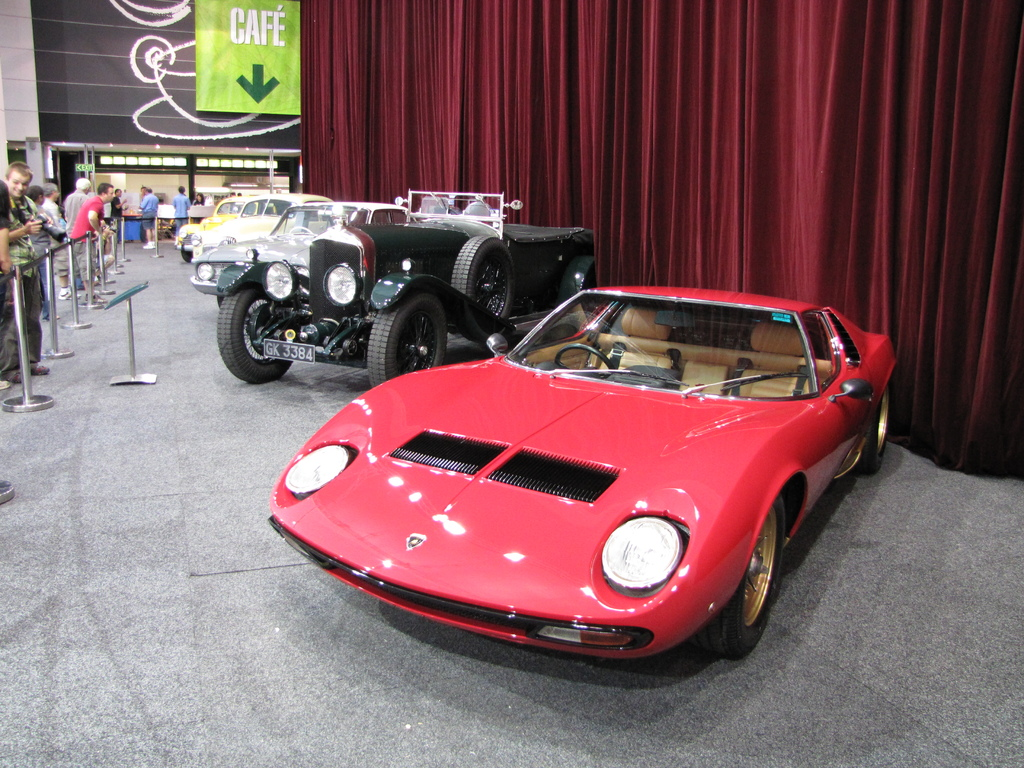mobil: (297, 283, 900, 686)
